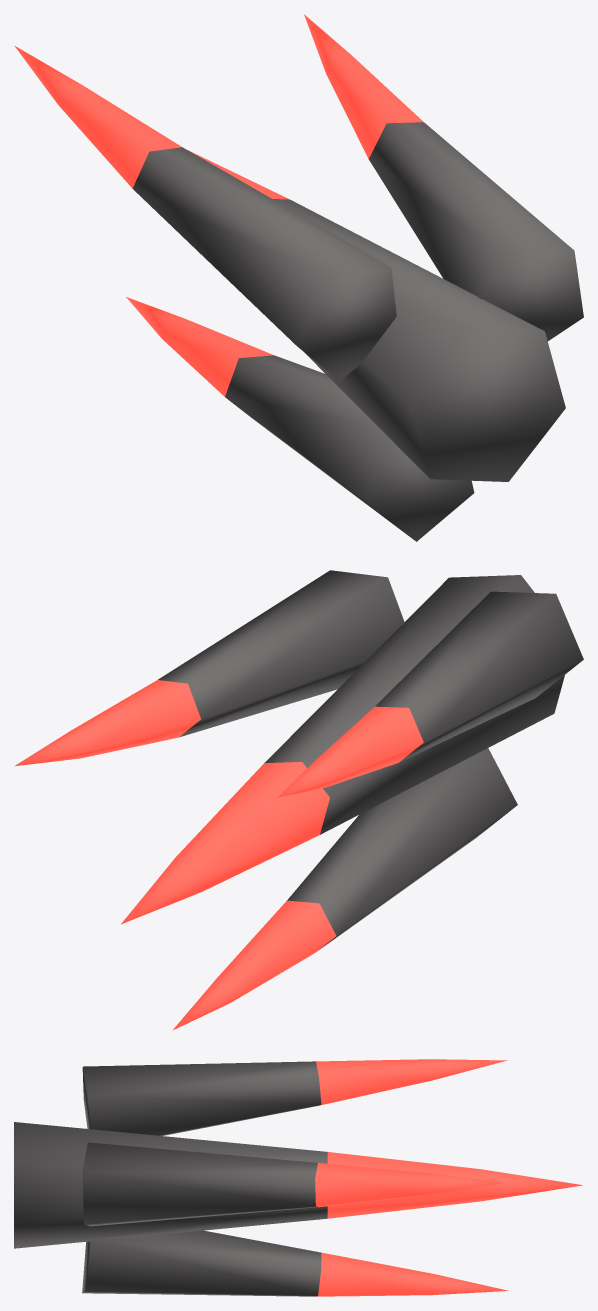
File: thorns_volley.glb
The picture shows the model from 3 angles, top to bottom: view 1: azimuth 30°, elevation 25°; view 2: azimuth 150°, elevation 25°; view 3: azimuth 270°, elevation 25°; orthographic projection. The views are drawn at different scales.
Parts seen in each view (by area): view 1: thorns_volley; view 2: thorns_volley; view 3: thorns_volley.
Part boxes in pixels (<box>): thorns_volley: <box>14,14,583,541</box>; thorns_volley: <box>14,570,583,1030</box>; thorns_volley: <box>14,1059,582,1296</box>.
Bounding box in the file's own units: 0.2705 × 0.2438 × 0.62.
